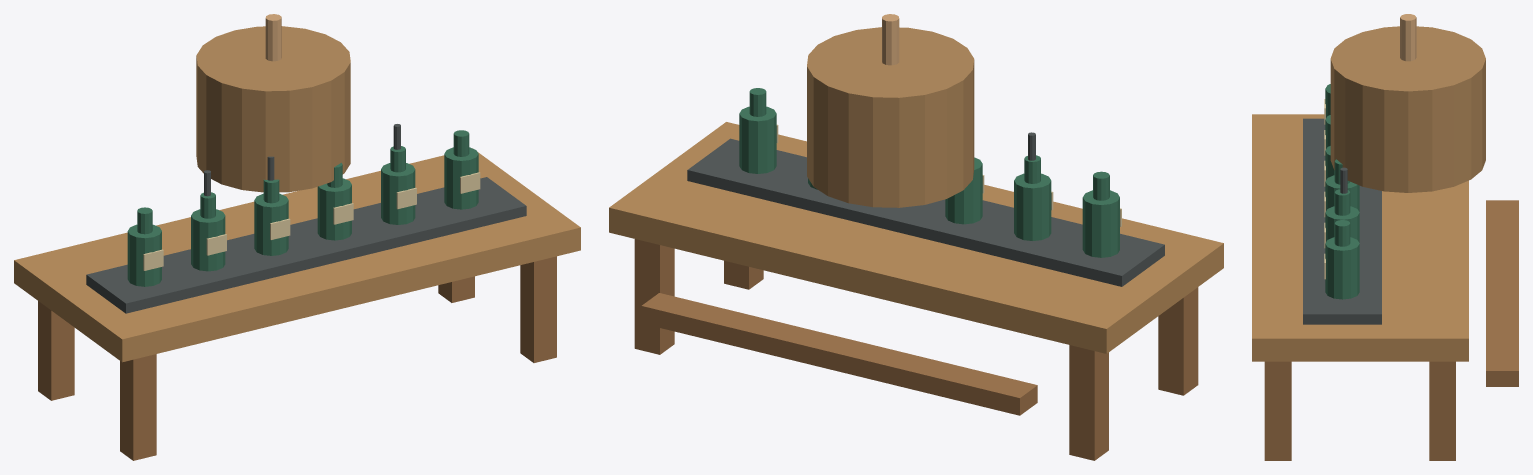
The model's file is bottling_line.glb.
3 renders of one model, left to right at view 1: azimuth 30°, elevation 25°; view 2: azimuth 150°, elevation 25°; view 3: azimuth 270°, elevation 25°, orthographic. The views are drawn at different scales.
Visible parts, largest first — view 1: Bottling table top, Wine fill reservoir, Conveyor, Table leg, Table leg.002, Table leg.001, Green bottle body, Green bottle body.005, Green bottle body.001, Green bottle body.004, Green bottle body.002, Green bottle body.003 (+2 smaller); view 2: Bottling table top, Wine fill reservoir, Conveyor, Bottle shelf, Table leg.001, Table leg, Table leg.003, Green bottle body.005, Green bottle body.001, Green bottle body, Green bottle body.002, Reservoir feed (+1 smaller); view 3: Bottling table top, Wine fill reservoir, Conveyor, Bottle shelf, Table leg.002, Table leg.003, Green bottle body.005, Reservoir feed, Green bottle body.004, Green bottle body.003, Green bottle neck.005, Green bottle neck.004.
Part boxes in pixels (x1=…): Bottling table top: x1=14, y1=152, x2=580, y2=362; Wine fill reservoir: x1=196, y1=26, x2=350, y2=192; Conveyor: x1=86, y1=177, x2=526, y2=313; Table leg: x1=120, y1=354, x2=156, y2=460; Table leg.002: x1=520, y1=256, x2=556, y2=362; Table leg.001: x1=38, y1=301, x2=74, y2=400; Green bottle body: x1=127, y1=224, x2=161, y2=286; Green bottle body.005: x1=444, y1=147, x2=478, y2=209; Green bottle body.001: x1=191, y1=209, x2=225, y2=271; Green bottle body.004: x1=381, y1=163, x2=415, y2=224; Green bottle body.002: x1=254, y1=193, x2=288, y2=255; Green bottle body.003: x1=317, y1=178, x2=351, y2=240; Bottling table top: x1=609, y1=122, x2=1223, y2=353; Wine fill reservoir: x1=807, y1=27, x2=974, y2=207; Conveyor: x1=687, y1=138, x2=1164, y2=286; Bottle shelf: x1=641, y1=293, x2=1037, y2=415; Table leg.001: x1=1069, y1=345, x2=1108, y2=460; Table leg: x1=1158, y1=287, x2=1198, y2=395; Table leg.003: x1=634, y1=239, x2=674, y2=354; Green bottle body.005: x1=739, y1=106, x2=776, y2=173; Green bottle body.001: x1=1014, y1=173, x2=1051, y2=240; Green bottle body: x1=1082, y1=190, x2=1119, y2=257; Green bottle body.002: x1=945, y1=157, x2=982, y2=224; Reservoir feed: x1=882, y1=14, x2=899, y2=65; Bottling table top: x1=1252, y1=114, x2=1468, y2=361; Wine fill reservoir: x1=1330, y1=26, x2=1485, y2=192; Conveyor: x1=1303, y1=118, x2=1381, y2=324; Bottle shelf: x1=1486, y1=200, x2=1518, y2=386; Table leg.002: x1=1264, y1=361, x2=1291, y2=460; Table leg.003: x1=1429, y1=361, x2=1455, y2=460; Green bottle body.005: x1=1325, y1=237, x2=1359, y2=299; Reservoir feed: x1=1400, y1=14, x2=1416, y2=61; Green bottle body.004: x1=1325, y1=206, x2=1359, y2=242; Green bottle body.003: x1=1325, y1=175, x2=1359, y2=211; Green bottle neck.005: x1=1334, y1=220, x2=1350, y2=246; Green bottle neck.004: x1=1334, y1=189, x2=1350, y2=215.
Bounding box in the file's own units: 3.55 × 2.51 × 1.79.
